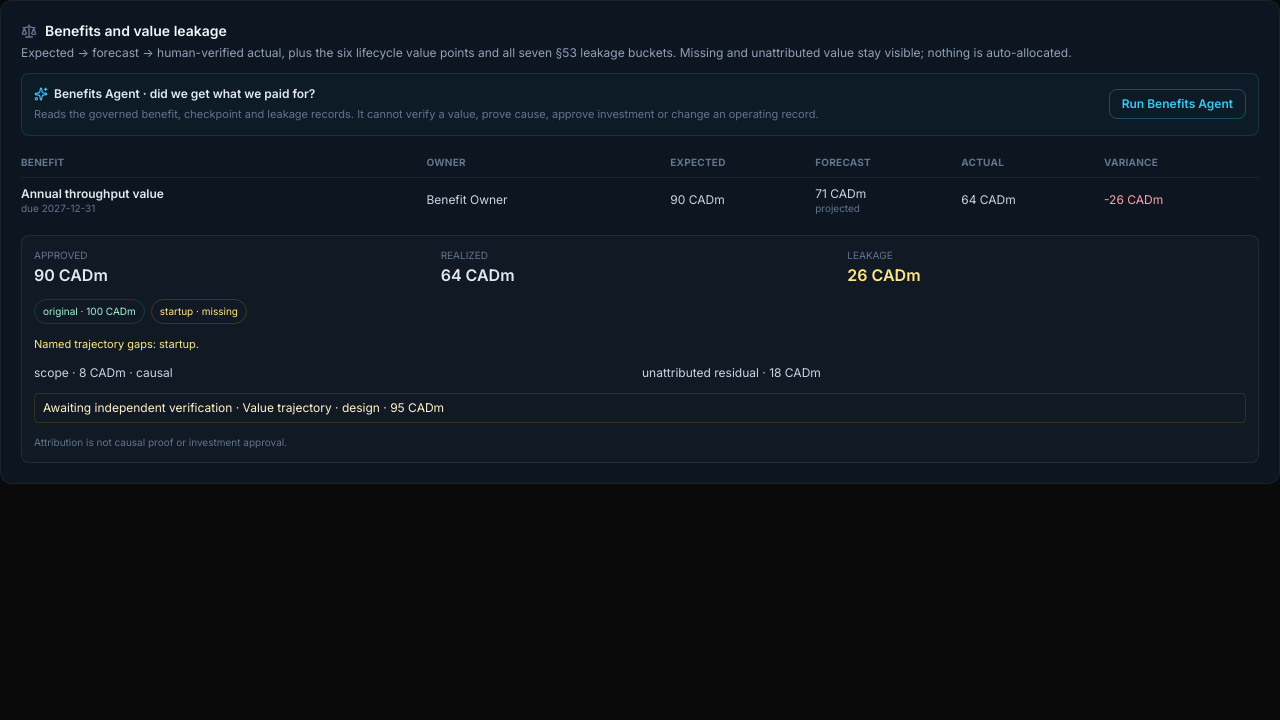
Scenario: BenefitsAndLeakageSection › runs the advisory Benefits Agent and shows record-level traceability
Expected: the text "Annual throughput value" is shown, [21,186,164,201]
Click the button "Run Benefits Agent" at (1177, 104), box [1109,89,1246,119]
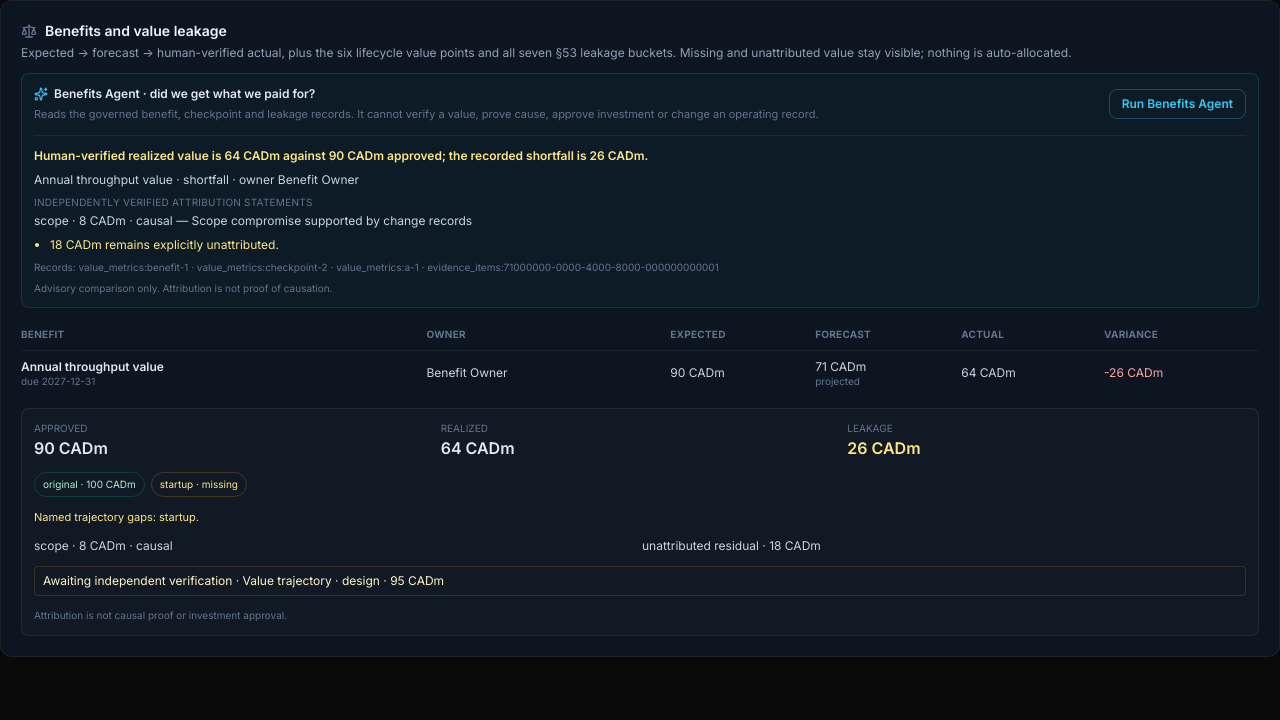
Now the text "recorded shortfall is 26 CADm" is shown, box [34,148,648,162]
Now the list item "18 CADm remains explicitly unattributed." is shown, box [50,237,279,252]
Now the text "value_metrics:checkpoint-2" is shown, box [78,261,719,273]
